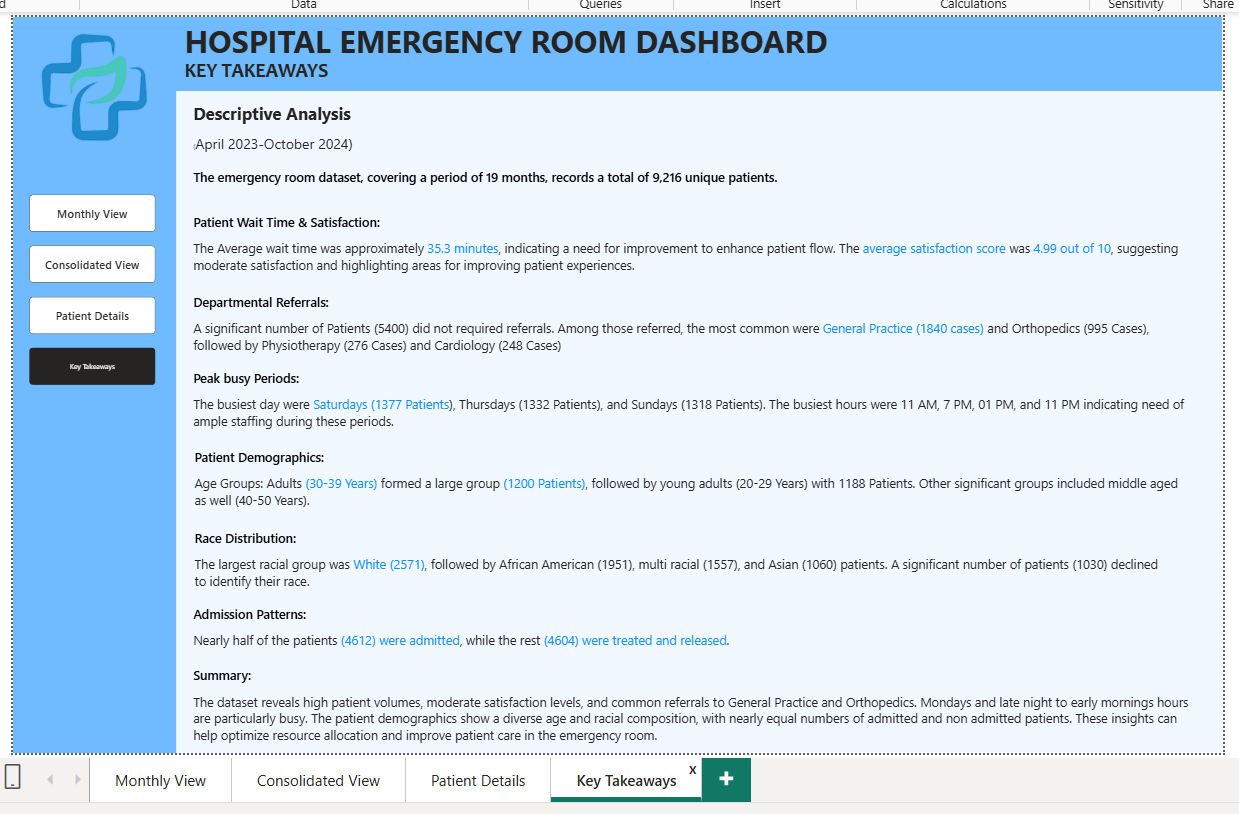

This screenshot's page, from the dashboard's own definition file:
{"tool":"powerbi","page":{"name":"Key Takeaways","canvas":[2300,1400],"ordinal":3},"visuals":[{"type":"shape","box":[0,0,310.7,1400.5],"z":0},{"type":"shape","box":[288.5,0,2012,140.5],"z":1000},{"type":"textbox","box":[320.5,0,1237.8,96.2],"z":2000},{"type":"textbox","box":[320.5,74,369.9,66.6],"z":3000},{"type":"image","box":[34.5,22.2,241.6,224.4],"z":4000},{"type":"textbox","box":[337.8,157.8,409.3,106],"z":5000},{"type":"textbox","box":[337.8,283.6,1790.1,61.6],"z":6000},{"type":"textbox","box":[337.8,367.4,1908.5,135.6],"z":7000},{"type":"textbox","box":[337.8,520.3,1908.5,125.8],"z":8000},{"type":"textbox","box":[337.8,665.7,1908.5,130.7],"z":9000},{"type":"textbox","box":[340.3,816.1,1906,130.7],"z":10000},{"type":"textbox","box":[337.8,1114.5,1908.5,118.4],"z":11000},{"type":"textbox","box":[337.8,1232.9,1908.5,167.7],"z":12000},{"type":"textbox","box":[340.3,969,1906,125.8],"z":13000},{"type":"pageNavigator","box":[30.9,337.6,240.2,363.8],"z":14000}]}

Visuals, with their boxes on the page's 2300x1400 design canvas (x1, y1, x2, y2). These are canvas units, not pixel positions in the 1239x814 screenshot, which may show the page scaled, cropped or inside an application window:
shape: 0 0 311 1400
shape: 288 0 2300 140
textbox: 320 0 1558 96
textbox: 320 74 690 141
image: 34 22 276 247
textbox: 338 158 747 264
textbox: 338 284 2128 345
textbox: 338 367 2246 503
textbox: 338 520 2246 646
textbox: 338 666 2246 796
textbox: 340 816 2246 947
textbox: 338 1114 2246 1233
textbox: 338 1233 2246 1401
textbox: 340 969 2246 1095
pageNavigator: 31 338 271 701
